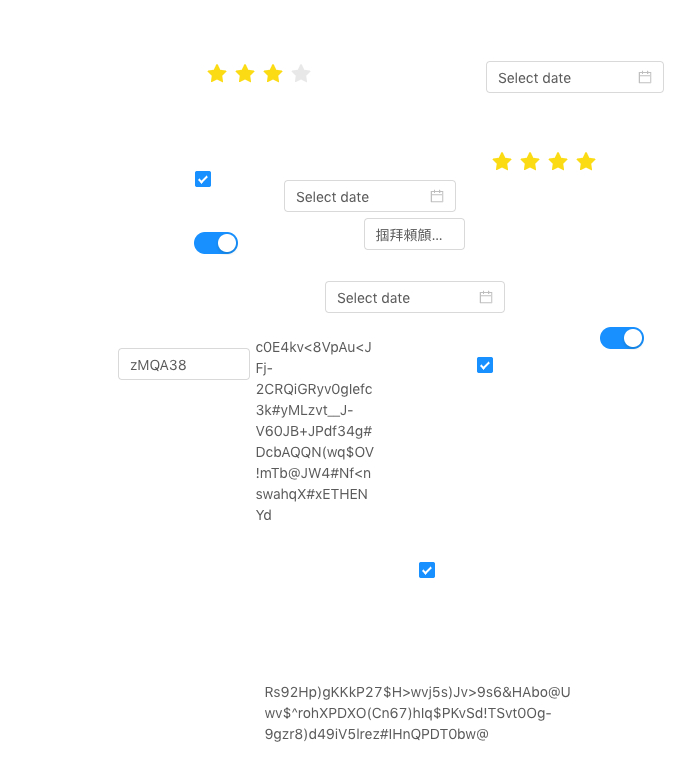Checkbox: (477, 354, 493, 375), (419, 559, 435, 580), (195, 168, 211, 189)
DatePicker: (325, 281, 505, 313), (486, 61, 664, 93), (284, 180, 456, 212)
Input: (118, 348, 250, 380), (364, 218, 465, 250)
Rate: (207, 57, 327, 89), (492, 145, 612, 177)
Switch: (600, 326, 644, 350), (194, 231, 238, 255)
Text: (265, 681, 580, 761), (256, 336, 375, 520)
